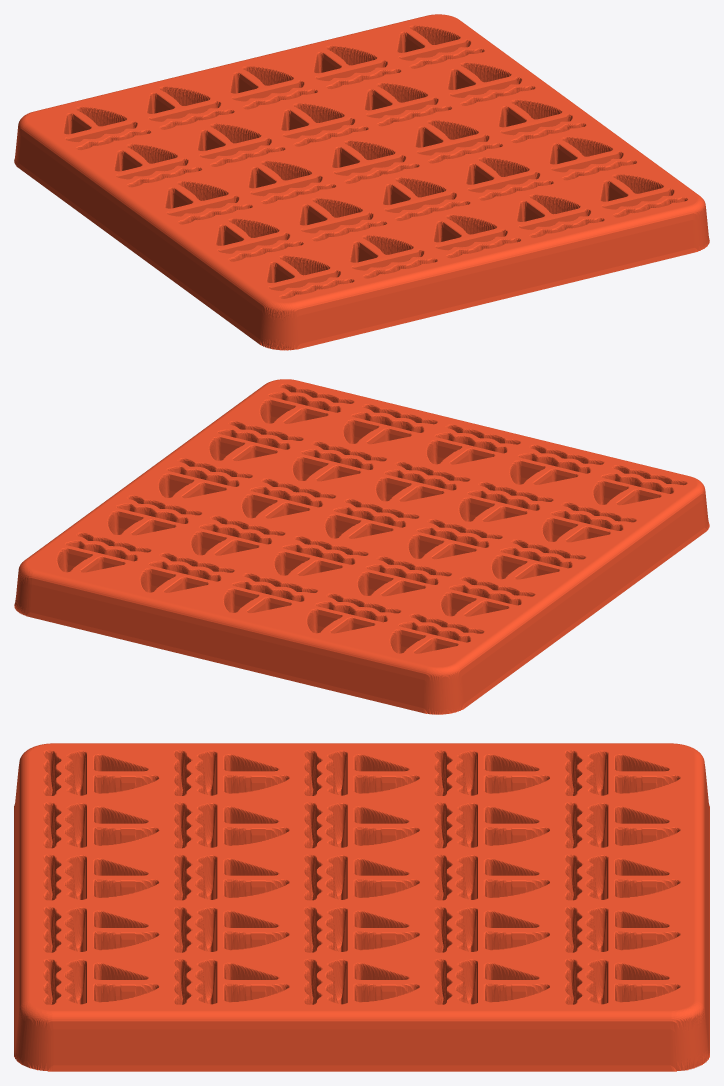
File: mold.glb
3 renders of one model, top to bottom at view 1: azimuth 30°, elevation 25°; view 2: azimuth 150°, elevation 25°; view 3: azimuth 270°, elevation 25°, orthographic. The views are drawn at different scales.
Parts seen in each view (by area): view 1: geometry_0; view 2: geometry_0; view 3: geometry_0.
Part boxes in pixels (x1,y1,x2,y2): geometry_0: (14,14,709,350); geometry_0: (14,379,709,714); geometry_0: (14,743,709,1071).
Size of the model in its own units: 0.1506 by 0.0136 by 0.1584.
